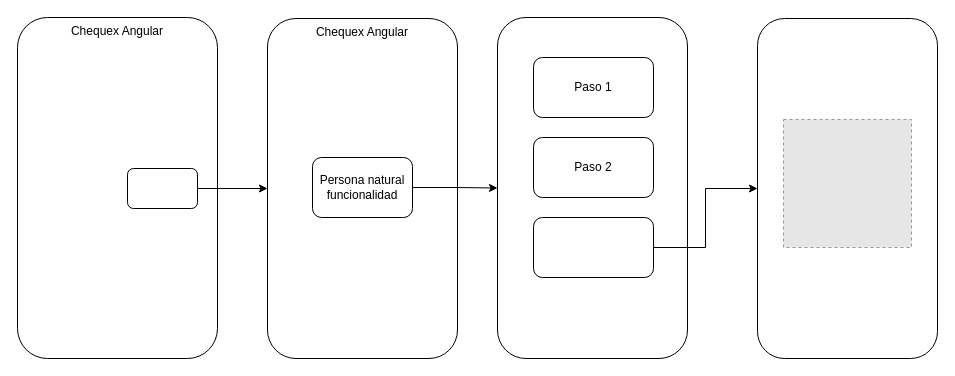
Image size: 955x376. Some labels were removed from this diagram. Grey dashed boxes stand in for pictures. Each missing label, with the centre of its shape:
chequex: the point at 162,188
Paso 3: the point at 593,247
